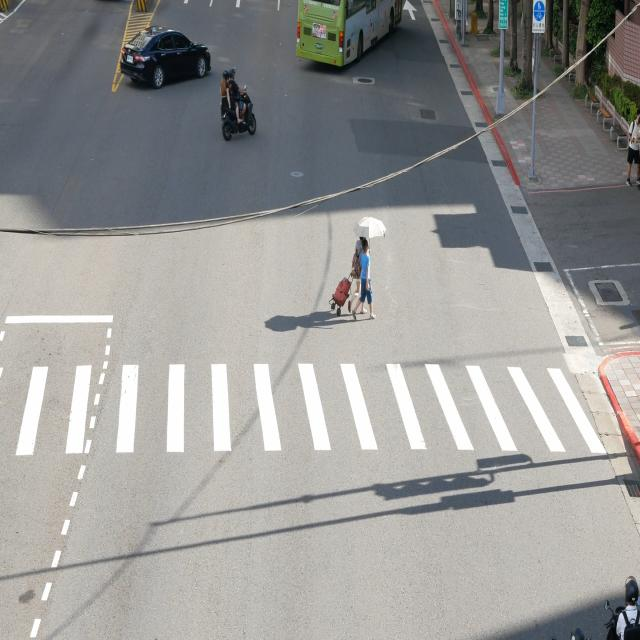pedestrian: (331, 236, 371, 315), (331, 236, 369, 315), (353, 238, 374, 318), (356, 219, 374, 232), (375, 219, 386, 236)
